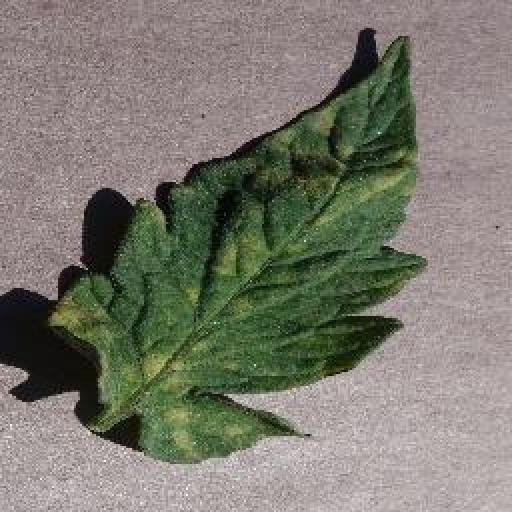disease_tomato: (48, 35, 427, 468)
